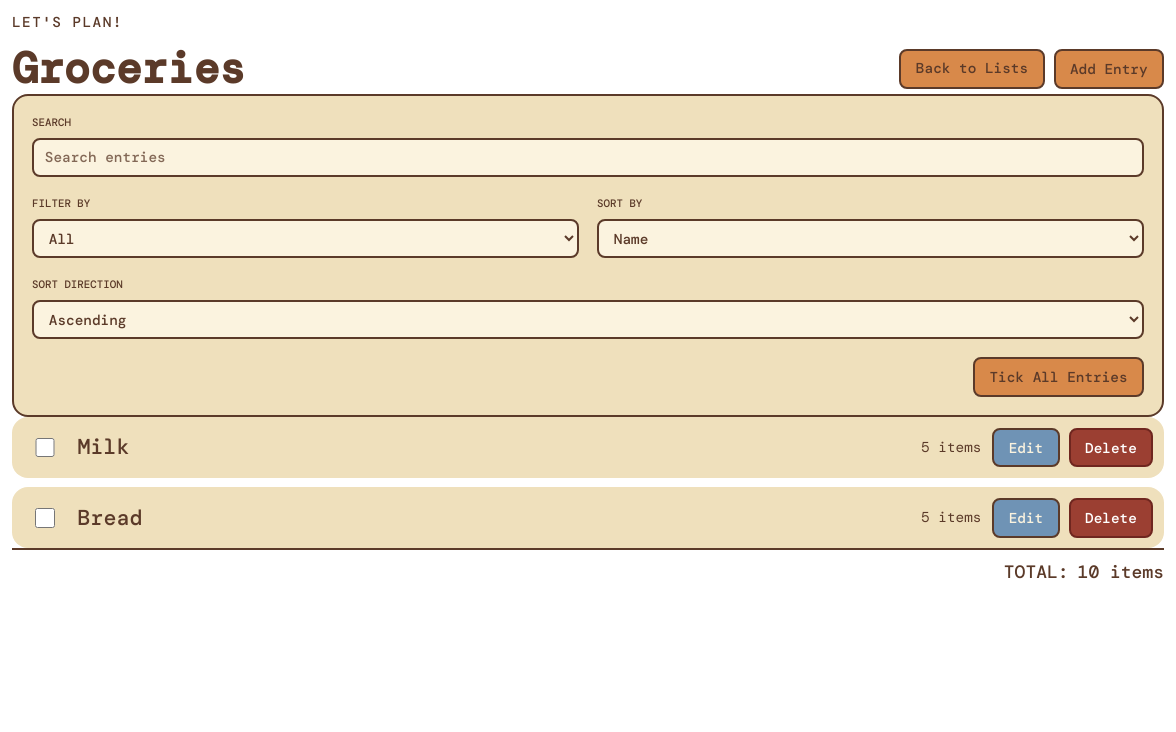
it: ListPage › localises a concurrency error to the affected item
What coordinates should you click on to do the following:
click the checkbox named "Mark Milk as completed" next to "Milk"
I would click on:
 (45, 448)
Its box is [35,438,55,457].
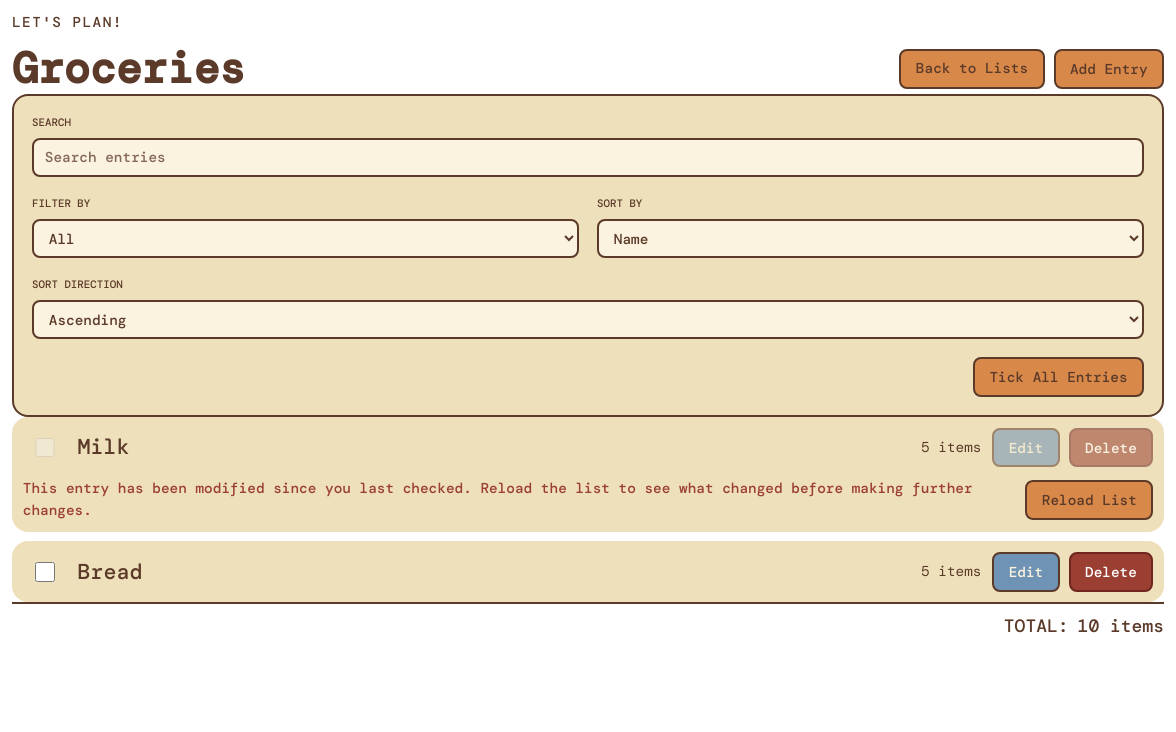
Result: the message shows "This entry has been modified since you last checked." at [23,479,973,519]
Result: the button with aria-label "Edit Milk" is disabled at [992,428,1060,467]
Result: the button with aria-label "Delete Milk" is disabled at [1069,428,1153,467]
What coordinates should you click on to do the following:
click the button "Reload List"
I would click on:
 (1089, 500)
Its box is [1025,480,1153,520].
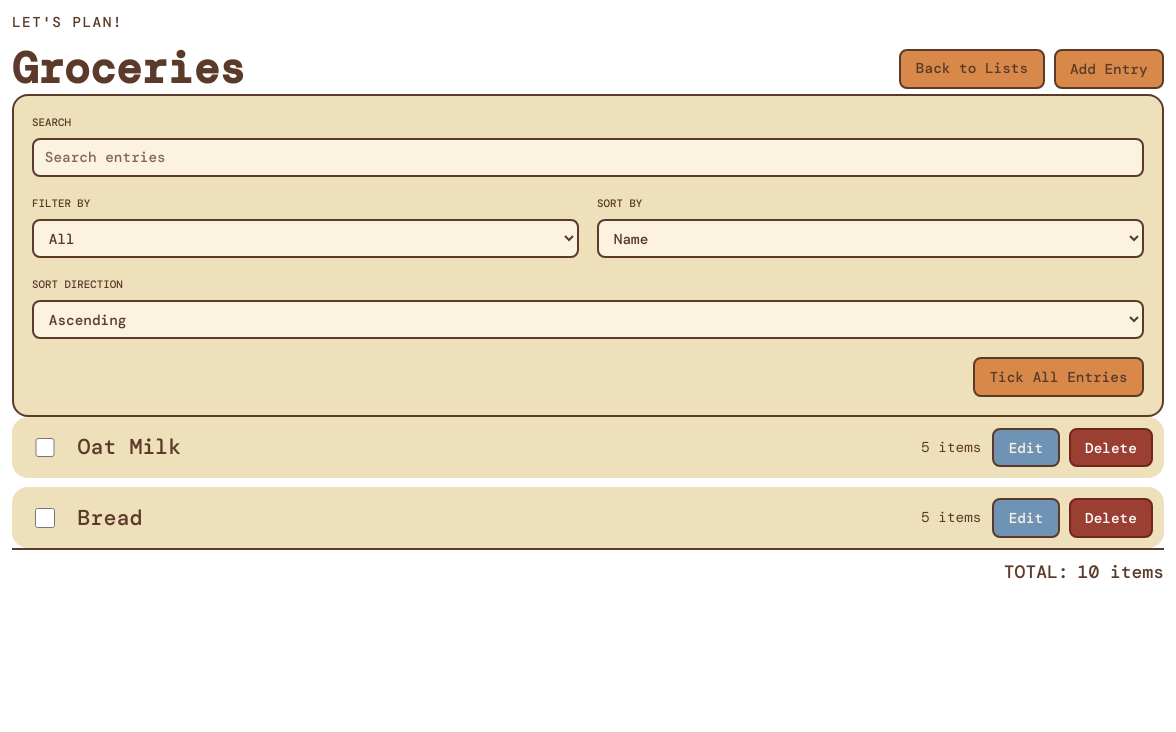
Result: the text "Oat Milk" is shown at [78,433,181,461]
Result: the message is gone
